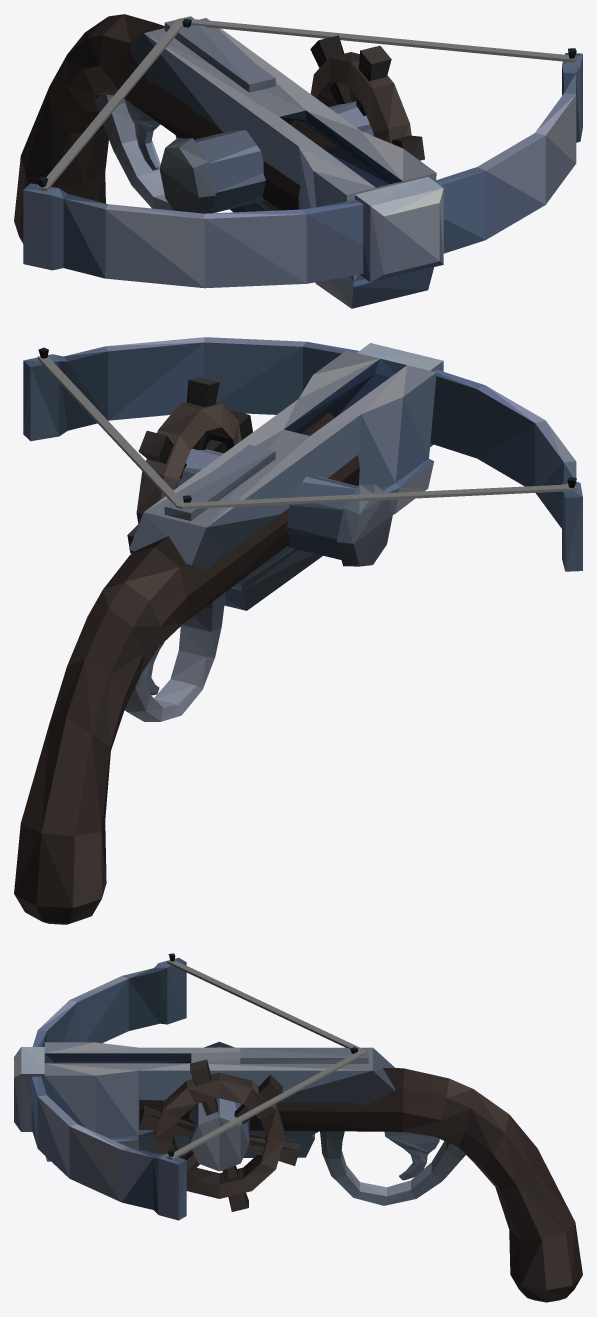
File: weapon_crossbow_silver_1.fbx
The picture shows the model from 3 angles, top to bottom: view 1: azimuth 30°, elevation 25°; view 2: azimuth 150°, elevation 25°; view 3: azimuth 270°, elevation 25°; orthographic projection. The views are drawn at different scales.
Parts seen in each view (by area): view 1: weapon_crossbow_silver_1; view 2: weapon_crossbow_silver_1; view 3: weapon_crossbow_silver_1.
Part boxes in pixels (box(x1,y1,x2,y2)): weapon_crossbow_silver_1: box(14, 14, 582, 308); weapon_crossbow_silver_1: box(14, 337, 582, 924); weapon_crossbow_silver_1: box(14, 953, 582, 1302).
Size of the model in its own units: 0.8673 by 0.5151 by 1.01.
